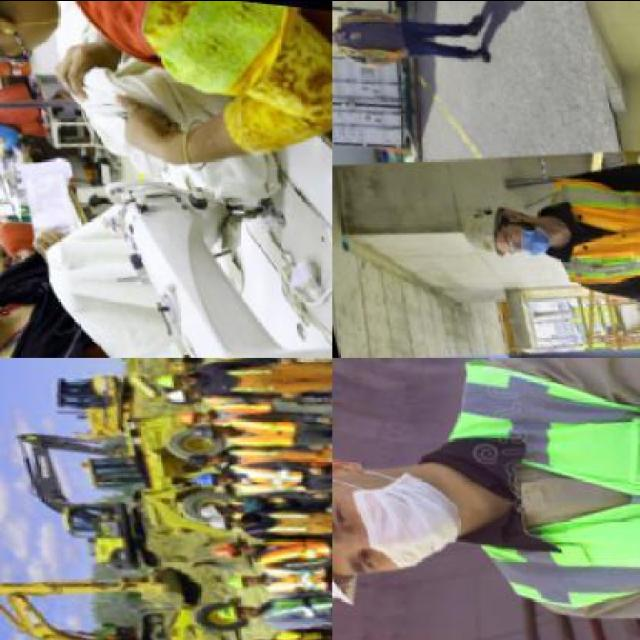helmet: (462, 195, 502, 262)
jacket: (447, 362, 640, 614), (547, 161, 640, 296)
